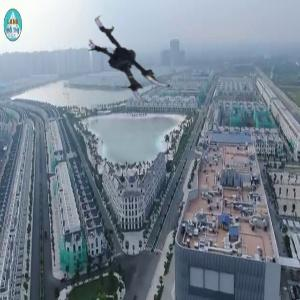drone: (84, 7, 183, 106)
